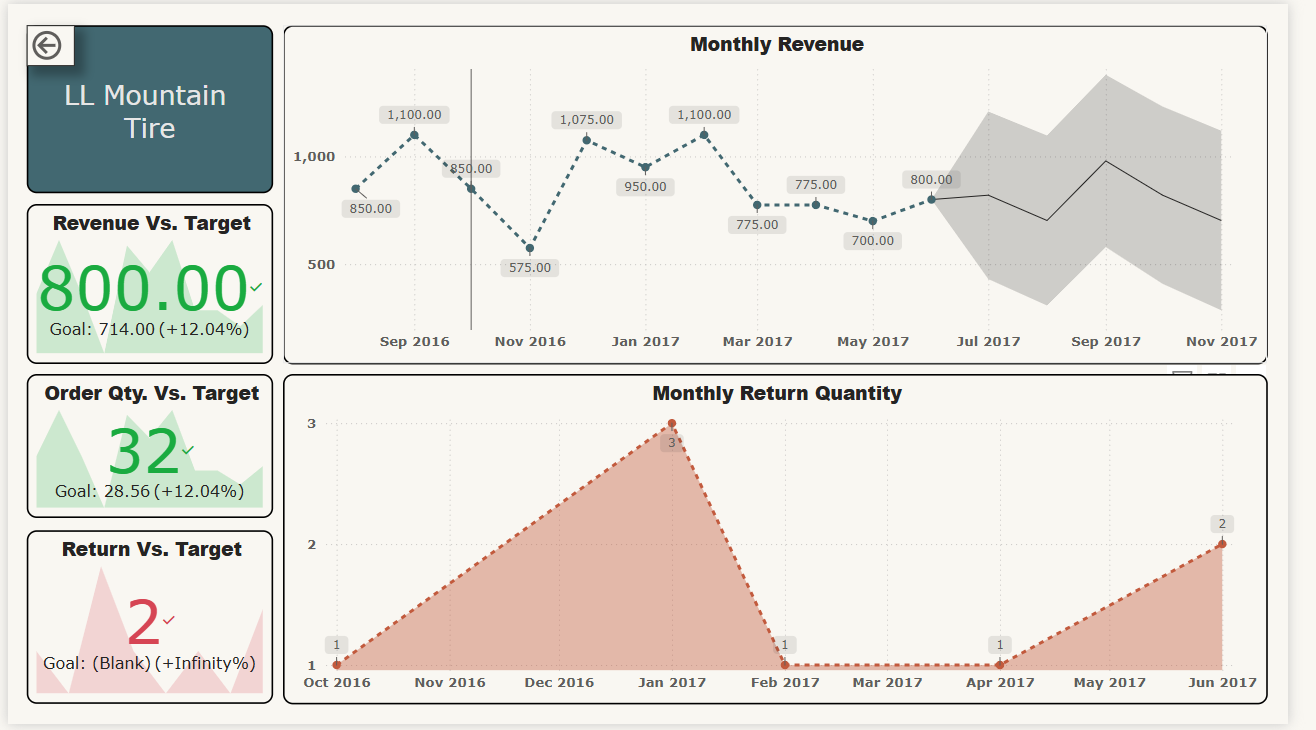

Layout of this report page (visuals, bound fields, positions):
{"tool":"powerbi","page":{"name":"Product Details","canvas":[1280,720],"ordinal":1},"visuals":[{"type":"lineChart","title":"Monthly Revenue","fields":{"Y":["All_Measures (2).M_Revenue"],"Category":["d-Calendar.Start_of_Month"]},"box":[274.5,21,984.7,339],"z":0},{"type":"areaChart","title":"Monthly Return Quantity","fields":{"Category":["d-Calendar.Start_of_Month"],"Y":["All_Measures (2).M_Total_Return_Qty."]},"box":[274.5,369.8,984.7,330.6],"z":1000},{"type":"kpi","title":"Revenue Vs. Target","fields":{"Indicator":["All_Measures (2).M_Revenue"],"TrendLine":["d-Calendar.Start_of_Month"],"Goal":["All_Measures (2).M_Target_Revenue"]},"box":[18.2,200.3,246.5,159.7],"z":2000},{"type":"kpi","title":"Return Vs. Target","fields":{"Indicator":["All_Measures (2).M_Total_Return_Qty."],"TrendLine":["d-Calendar.Start_of_Month"],"Goal":["All_Measures (2).M_Previous_month_Return_Qty."]},"box":[18.2,526.7,246.5,173.7],"z":3000},{"type":"card","fields":{"Values":["Min(d-Products.ProductName)"]},"box":[18.2,21,246.5,168.1],"z":4000},{"type":"actionButton","box":[18.2,21,47.6,40.6],"z":5000},{"type":"kpi","title":"Order Qty. Vs. Target","fields":{"Indicator":["All_Measures (2).M_Total_Order_Qty."],"TrendLine":["d-Calendar.Start_of_Month"],"Goal":["All_Measures (2).M_Target_Order_Qty."]},"box":[18.2,369.8,246.5,144.3],"z":6000}]}

Visuals, with their boxes in screenshot pixels (x1, y1, x2, y2), scaled from the page's 1280x720 canvas onto the 1316x730 screenshot:
"Monthly Revenue" lineChart: [282, 21, 1295, 365]
"Monthly Return Quantity" areaChart: [282, 375, 1295, 710]
"Revenue Vs. Target" kpi: [19, 203, 272, 365]
"Return Vs. Target" kpi: [19, 534, 272, 710]
card - Min(d-Products.ProductName): [19, 21, 272, 192]
actionButton: [19, 21, 68, 62]
"Order Qty. Vs. Target" kpi: [19, 375, 272, 521]
